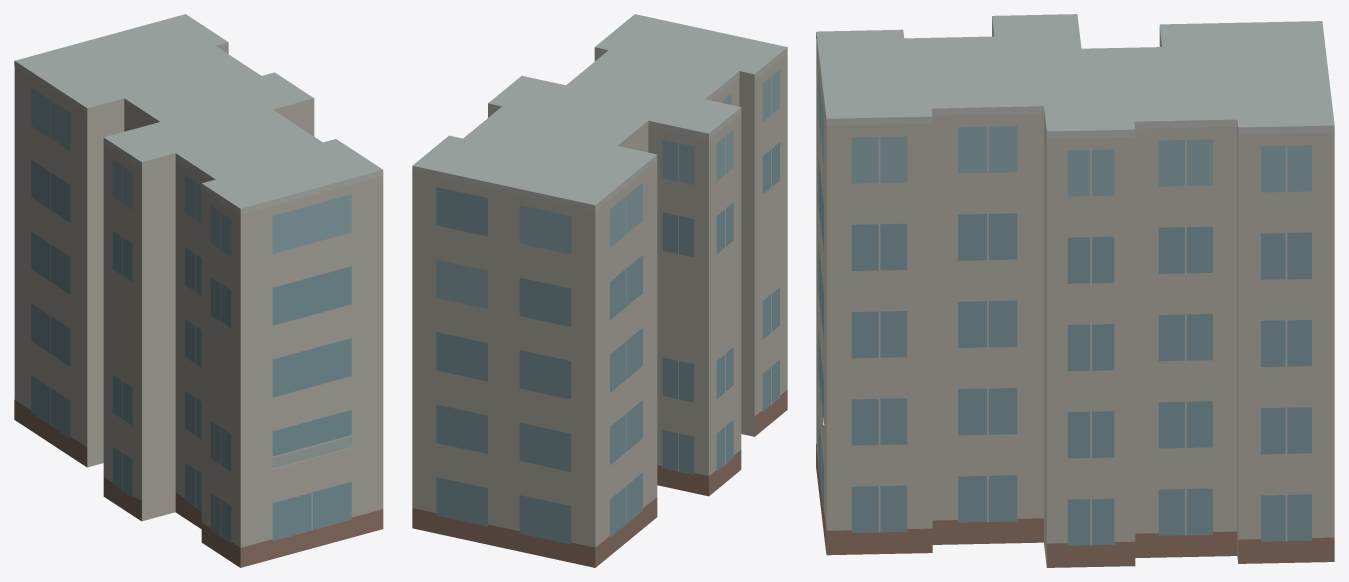
The model's file is survey-upis-32757555.glb.
3 views of the same model, side by side, from view 1: azimuth 30°, elevation 25°; view 2: azimuth 150°, elevation 25°; view 3: azimuth 270°, elevation 25° (orthographic). The views are drawn at different scales.
Parts seen in each view (by area): view 1: survey-upis-32757555.tmp; view 2: survey-upis-32757555.tmp; view 3: survey-upis-32757555.tmp.
Boxes of the visible parts, bbox=[...] form: survey-upis-32757555.tmp: bbox=[14, 14, 383, 567]; survey-upis-32757555.tmp: bbox=[412, 14, 787, 567]; survey-upis-32757555.tmp: bbox=[816, 14, 1334, 567].
Size of the model in its own units: 8.81 by 15.25 by 16.43.
